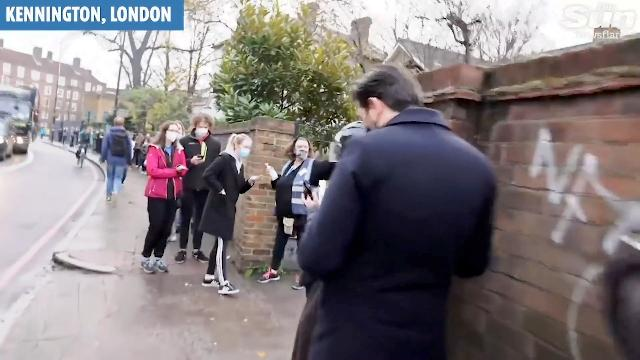berdiri: (284, 65, 520, 360), (192, 125, 252, 307), (138, 112, 180, 290)
